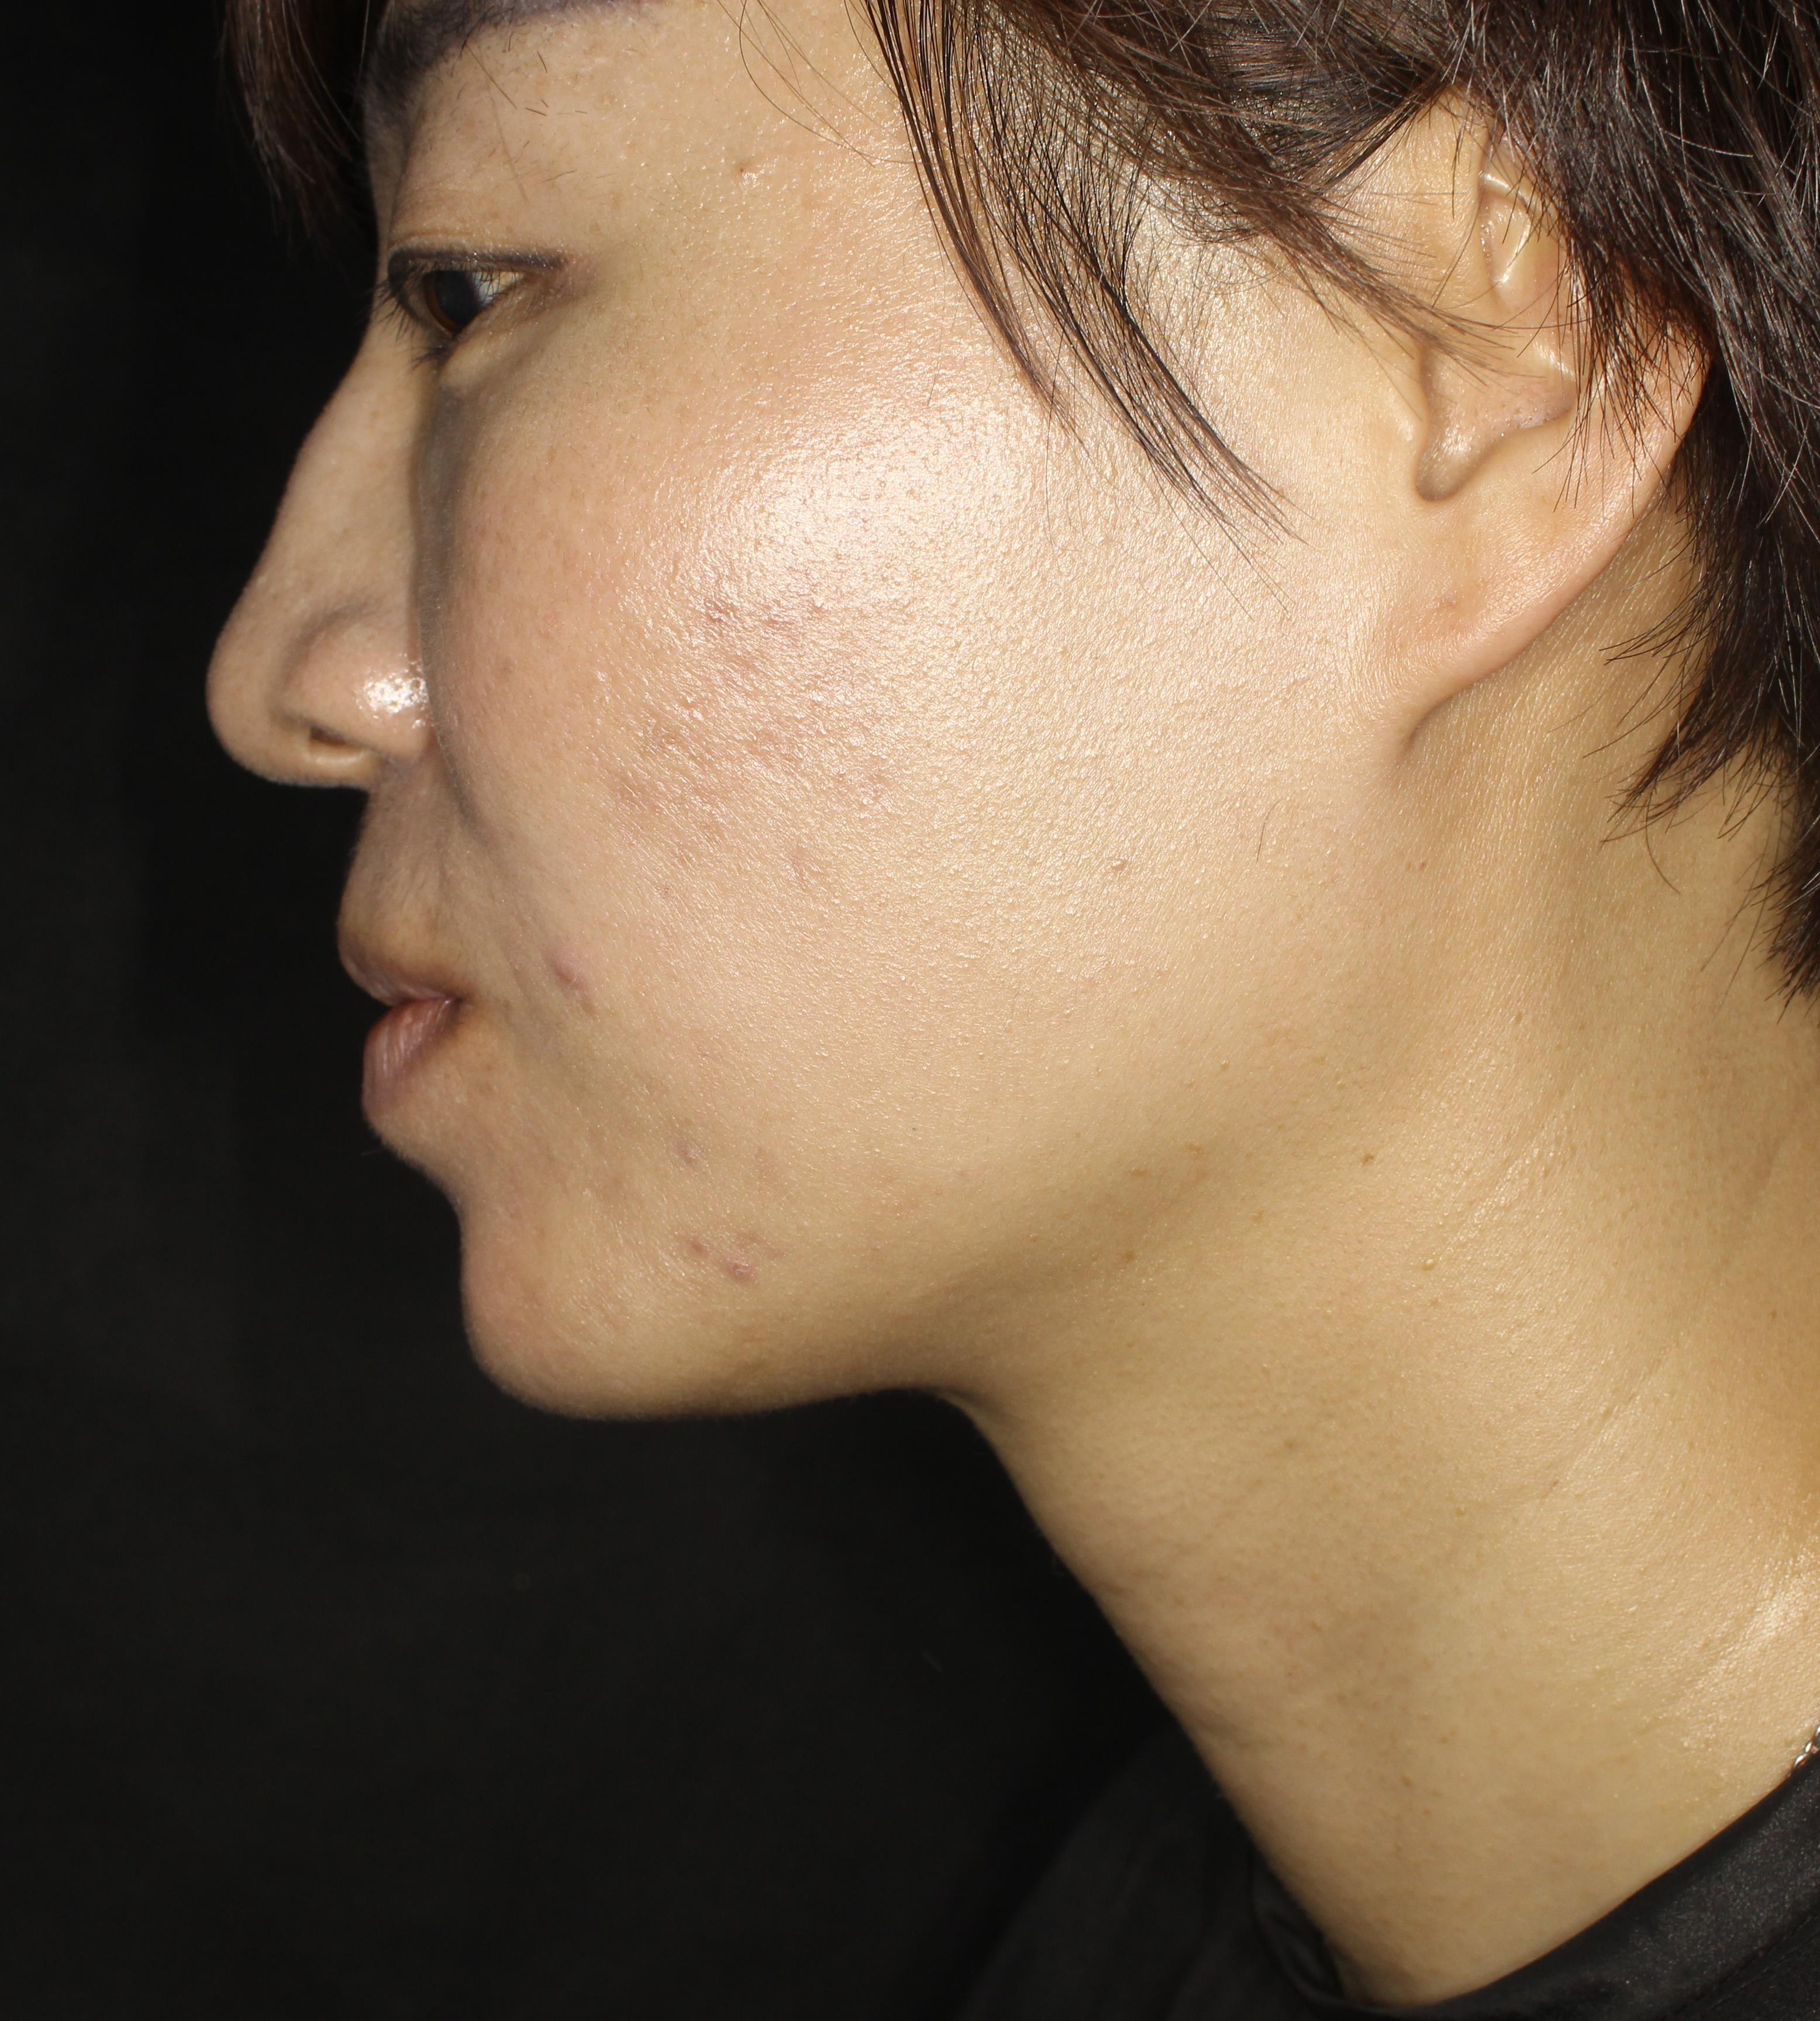fore: (516, 936, 624, 1043), (673, 1205, 768, 1315)
